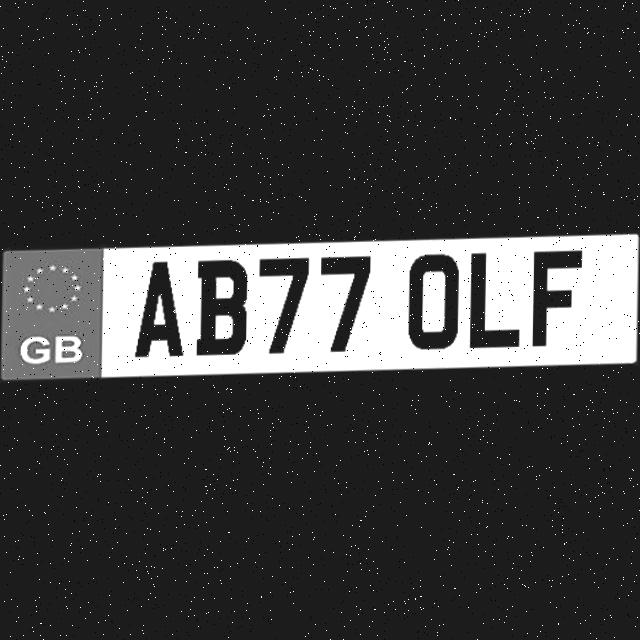license-plates: (0, 230, 640, 379)
